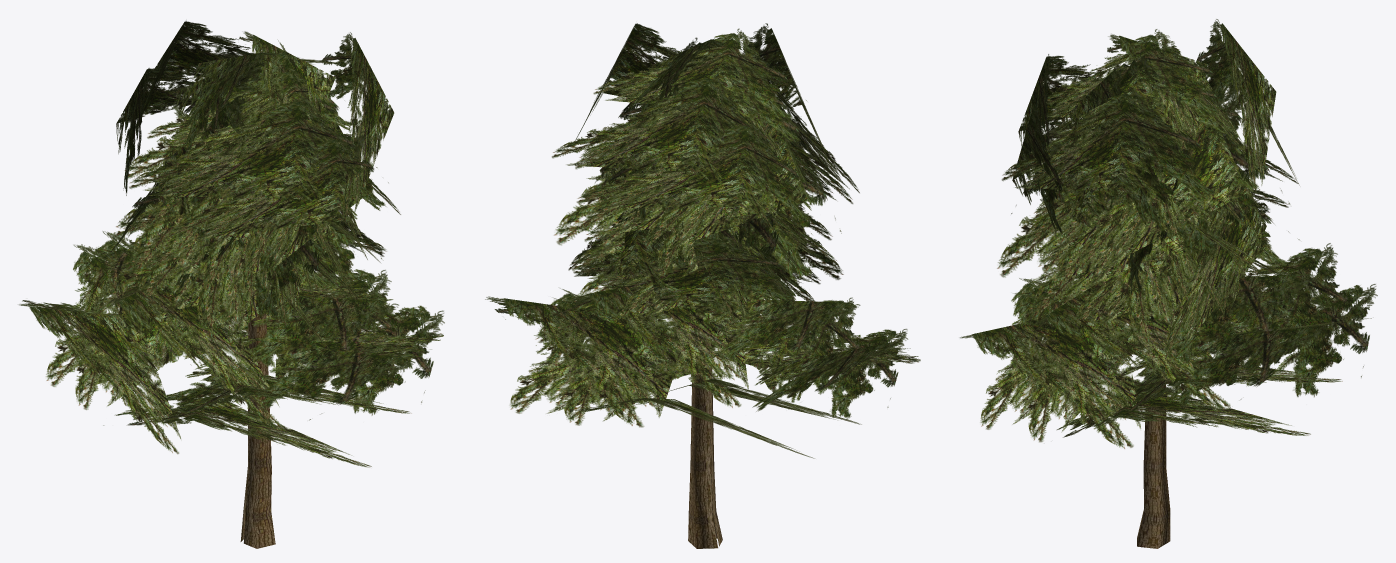
File: tree_test2.glb
3 renders of one model, left to right at view 1: azimuth 30°, elevation 25°; view 2: azimuth 150°, elevation 25°; view 3: azimuth 270°, elevation 25°, orthographic.
Parts seen in each view (by area): view 1: Tree_Pine_T1_Tree_Pine_0, Tree_Pine_T1_Tree_Pine_0.002; view 2: Tree_Pine_T1_Tree_Pine_0, Tree_Pine_T1_Tree_Pine_0.002; view 3: Tree_Pine_T1_Tree_Pine_0, Tree_Pine_T1_Tree_Pine_0.002.
Boxes of the visible parts, x1,y1,x2,y2 form: Tree_Pine_T1_Tree_Pine_0: (19,20,444,467); Tree_Pine_T1_Tree_Pine_0.002: (240,313,275,548); Tree_Pine_T1_Tree_Pine_0: (485,23,920,458); Tree_Pine_T1_Tree_Pine_0.002: (688,305,722,548); Tree_Pine_T1_Tree_Pine_0: (960,19,1377,448); Tree_Pine_T1_Tree_Pine_0.002: (1137,326,1170,548).
Size of the model in its own units: 11.29 by 13.54 by 10.3.
2 materials, 2 textured.
